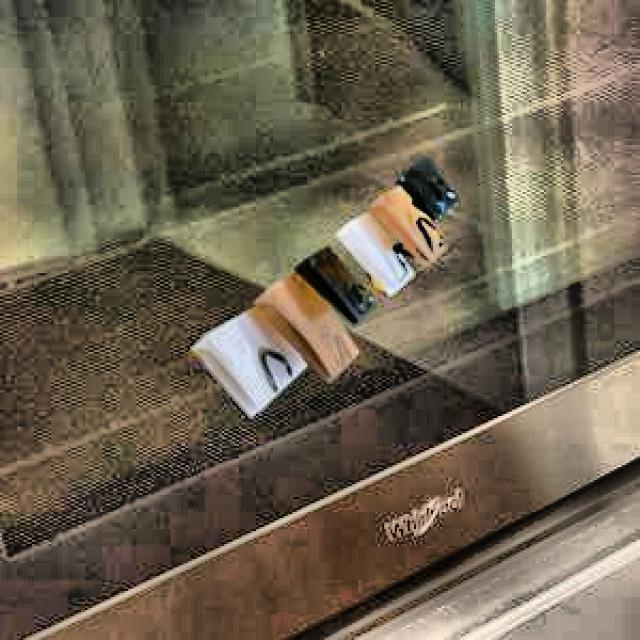Paper-bag: (176, 152, 468, 420)
